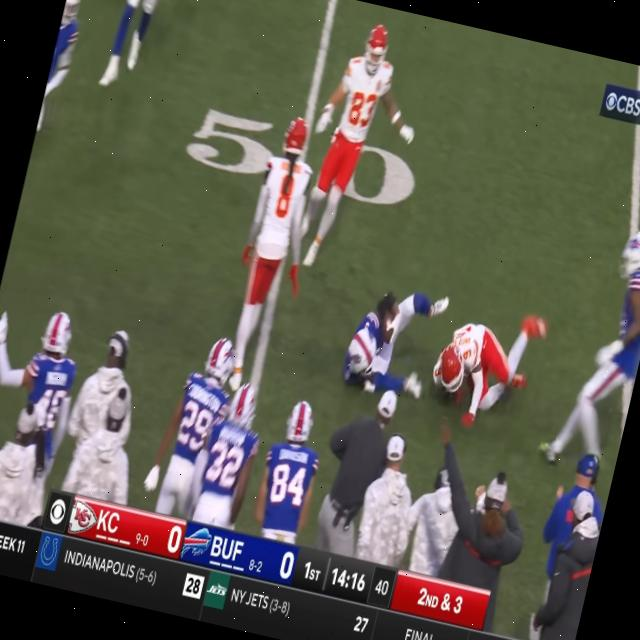Player: (233, 110, 330, 358), (304, 16, 396, 262), (558, 224, 640, 463), (159, 330, 236, 518), (432, 300, 540, 423), (195, 381, 273, 529), (256, 391, 334, 538), (15, 310, 89, 458), (348, 292, 448, 400)
